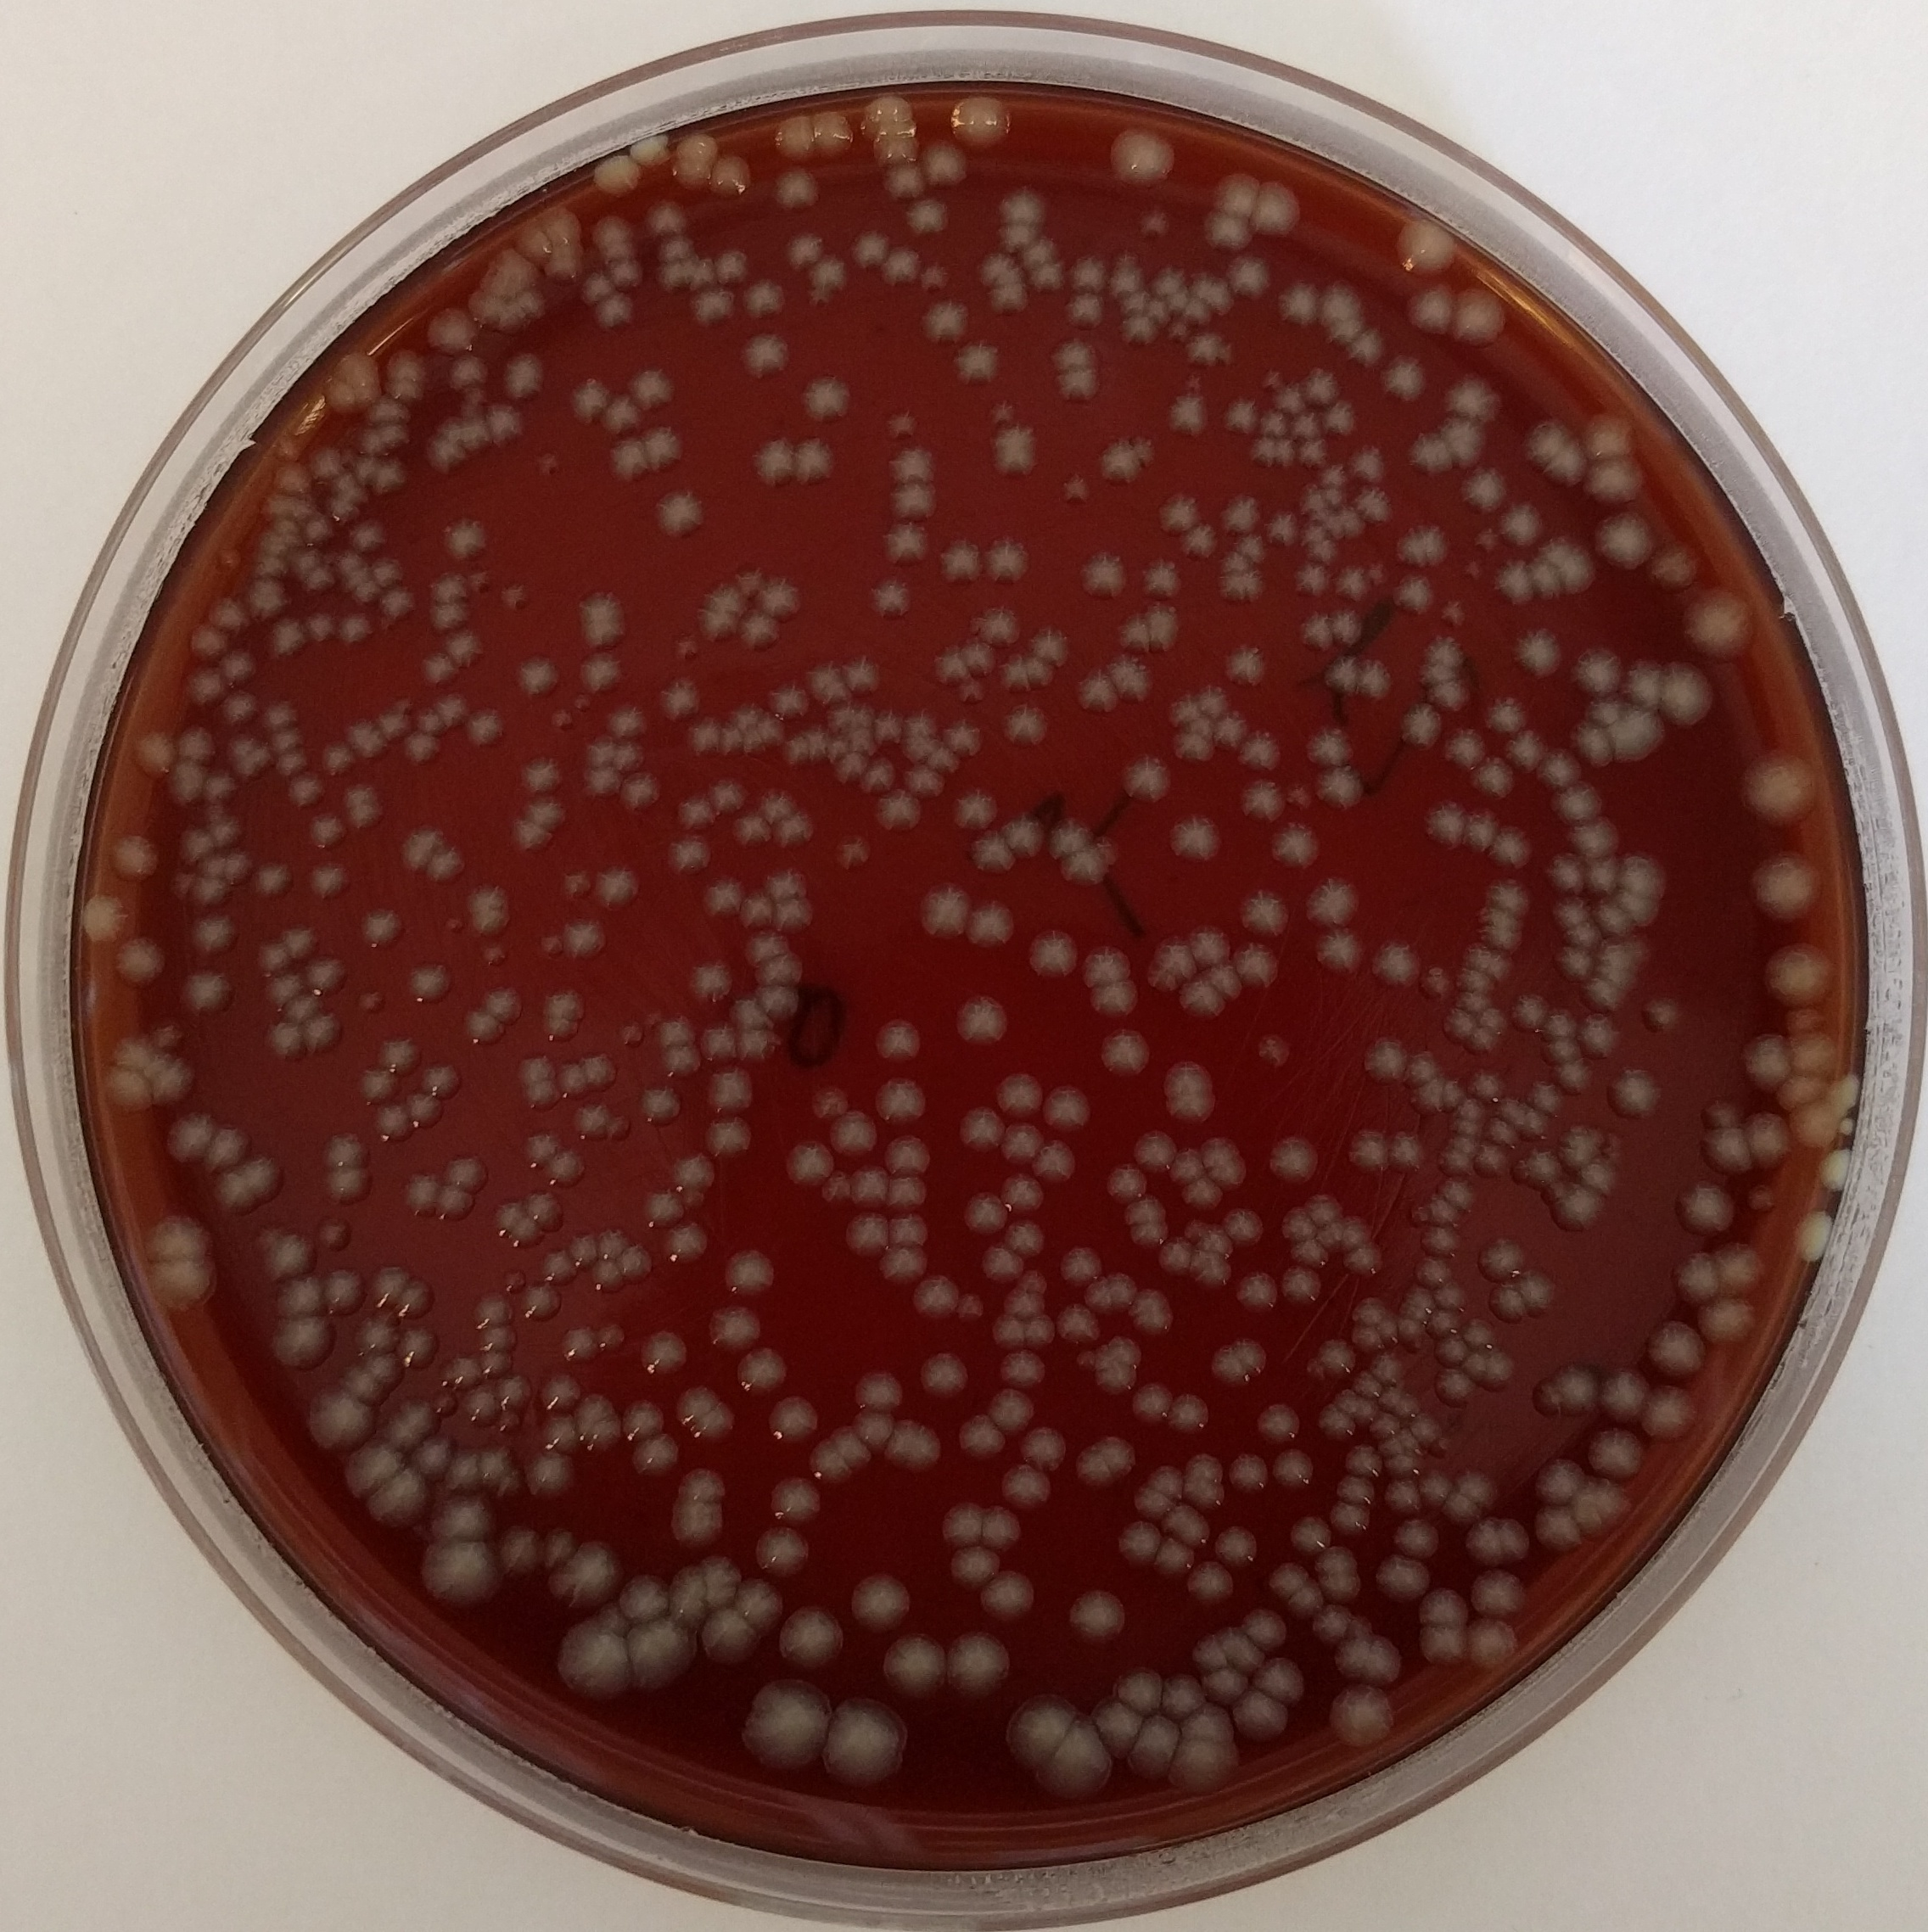sp05: (731, 1672, 837, 1770), (819, 1687, 913, 1789), (553, 1604, 643, 1702), (1734, 740, 1831, 830), (1005, 1679, 1091, 1775), (1026, 1715, 1116, 1801), (618, 1612, 708, 1699), (1744, 839, 1826, 932), (927, 745, 1003, 839), (1677, 579, 1760, 660), (422, 1529, 507, 1609), (478, 240, 553, 325), (1764, 929, 1841, 1008), (1395, 198, 1467, 283), (318, 369, 387, 456), (876, 1626, 952, 1702), (302, 1381, 378, 1457), (777, 1595, 851, 1671), (360, 1455, 434, 1531), (943, 1626, 1017, 1701), (1658, 652, 1723, 735), (141, 1257, 226, 1321), (1331, 1676, 1402, 1752), (1589, 502, 1658, 579), (1081, 1688, 1146, 1770), (1167, 1731, 1243, 1798), (1577, 443, 1656, 505), (1298, 864, 1372, 929), (1644, 1312, 1709, 1386), (547, 1538, 621, 1604), (427, 1485, 501, 1551), (952, 982, 1015, 1058), (1020, 924, 1089, 992), (1225, 1678, 1292, 1748), (846, 1563, 916, 1630), (1571, 1471, 1637, 1543), (1111, 120, 1178, 189), (1691, 1289, 1762, 1355), (302, 441, 373, 507), (270, 1310, 343, 1374), (1056, 1588, 1130, 1649), (1638, 1374, 1704, 1443), (701, 1600, 770, 1665), (343, 1436, 411, 1501), (1605, 706, 1676, 770), (141, 1213, 212, 1277), (572, 583, 636, 653), (373, 570, 440, 636), (1700, 1114, 1764, 1183), (1464, 1558, 1534, 1619), (1439, 366, 1511, 426), (1367, 1547, 1439, 1607), (1252, 171, 1308, 247), (1665, 1245, 1730, 1310), (795, 369, 862, 433), (1584, 1420, 1647, 1487), (881, 1418, 948, 1482), (930, 530, 992, 599), (946, 92, 1017, 152), (989, 411, 1043, 487), (1395, 514, 1460, 577), (1672, 1174, 1736, 1240), (1105, 1660, 1171, 1724), (722, 1240, 786, 1305), (1269, 270, 1329, 339), (1365, 927, 1425, 996), (1450, 275, 1508, 346), (1543, 530, 1600, 602), (916, 874, 973, 947), (701, 1294, 764, 1358), (1568, 641, 1630, 706), (1561, 807, 1626, 869), (869, 1003, 927, 1072), (1605, 1060, 1667, 1123), (109, 929, 171, 992), (1545, 1360, 1605, 1425), (1246, 1649, 1312, 1709), (837, 1199, 897, 1264), (71, 888, 136, 948), (1264, 809, 1322, 876), (1165, 804, 1224, 871), (175, 966, 242, 1024), (1714, 1234, 1771, 1303), (1130, 1709, 1181, 1785), (1114, 749, 1178, 809), (102, 825, 162, 888), (667, 1496, 733, 1554), (952, 1095, 1010, 1160), (1036, 1079, 1102, 1137), (1409, 275, 1465, 343), (1741, 1024, 1796, 1093), (1741, 1104, 1796, 1173), (975, 1561, 1036, 1621), (159, 1104, 219, 1166), (1312, 761, 1375, 819), (696, 1551, 754, 1614), (1142, 932, 1199, 998), (1174, 1701, 1241, 1755), (334, 772, 387, 841), (1465, 1611, 1525, 1671), (1225, 936, 1287, 994), (1354, 1028, 1412, 1090), (1529, 1501, 1587, 1563), (657, 1215, 715, 1277), (998, 696, 1056, 758), (752, 1522, 816, 1579), (782, 1132, 839, 1196), (869, 703, 932, 759), (886, 473, 952, 528), (1155, 1671, 1220, 1725), (445, 346, 498, 413), (267, 456, 318, 525), (1430, 408, 1490, 466), (1642, 532, 1700, 592), (1393, 696, 1451, 756), (1314, 917, 1372, 977), (1098, 1021, 1156, 1081), (1119, 1280, 1179, 1339), (1073, 547, 1135, 604), (980, 530, 1036, 592), (1231, 722, 1287, 784), (1179, 1556, 1241, 1612), (948, 1536, 1003, 1600), (274, 1268, 337, 1323), (764, 1471, 830, 1524), (184, 906, 242, 964), (918, 293, 975, 353), (738, 328, 798, 385), (682, 954, 742, 1010), (869, 1072, 930, 1127), (464, 876, 519, 938), (1612, 846, 1676, 899), (966, 892, 1019, 955), (1211, 162, 1262, 228), (1234, 885, 1292, 941), (1268, 1130, 1324, 1189), (764, 1392, 823, 1448), (614, 1568, 671, 1626), (636, 1323, 692, 1381), (828, 1104, 885, 1162), (1787, 1088, 1841, 1148), (491, 1517, 546, 1577), (989, 1065, 1043, 1125), (1379, 344, 1432, 406), (1460, 1512, 1513, 1574), (704, 1058, 757, 1120), (992, 1107, 1045, 1169), (556, 911, 618, 964), (1596, 1360, 1647, 1423), (535, 198, 586, 261), (1227, 242, 1277, 307), (620, 1390, 669, 1455), (662, 1563, 710, 1630), (1578, 404, 1635, 461), (1564, 715, 1621, 772), (1552, 1116, 1608, 1173), (1529, 1455, 1585, 1512), (1114, 1515, 1171, 1572), (906, 1268, 962, 1324), (747, 433, 802, 491), (200, 1120, 254, 1178), (424, 297, 482, 351), (807, 108, 860, 168), (1232, 1605, 1292, 1658), (1103, 650, 1155, 712), (1543, 775, 1605, 826), (1480, 871, 1541, 922), (1204, 198, 1254, 261), (731, 1572, 780, 1635), (441, 1443, 491, 1506), (1455, 457, 1510, 514), (1511, 622, 1568, 676), (1236, 770, 1292, 825), (1047, 1298, 1103, 1353), (314, 1261, 371, 1316), (768, 159, 821, 217), (936, 1498, 989, 1556), (766, 890, 825, 943), (996, 1460, 1056, 1512), (952, 1413, 1012, 1464), (621, 364, 683, 413), (1545, 433, 1594, 494), (320, 1164, 381, 1213), (1082, 934, 1137, 989), (738, 1342, 793, 1397), (475, 978, 530, 1033), (706, 148, 763, 201), (1485, 1277, 1538, 1333), (1412, 1618, 1469, 1671), (1211, 1521, 1264, 1577), (996, 1346, 1052, 1399), (353, 1339, 406, 1395), (125, 726, 178, 782), (803, 244, 855, 302), (1789, 1026, 1840, 1084), (1390, 1512, 1448, 1563), (863, 572, 922, 623), (1013, 1427, 1073, 1476), (673, 1462, 733, 1512), (683, 286, 747, 332), (395, 818, 441, 881), (1185, 260, 1238, 314), (918, 138, 973, 191), (1495, 494, 1548, 549), (1534, 740, 1587, 795), (1511, 1137, 1566, 1190), (983, 1385, 1038, 1438), (689, 1395, 743, 1448), (408, 1432, 463, 1485), (245, 853, 300, 906), (516, 784, 570, 837), (576, 646, 629, 701), (733, 604, 786, 659), (966, 825, 1019, 879), (480, 396, 535, 449), (154, 1056, 208, 1109), (950, 336, 1006, 387), (1043, 812, 1095, 869), (524, 1445, 576, 1501), (872, 782, 923, 839), (881, 516, 932, 572), (1621, 650, 1665, 715), (1301, 1332, 1359, 1381), (173, 717, 222, 775), (621, 129, 682, 177), (966, 602, 1026, 650), (1513, 1259, 1561, 1319), (1081, 971, 1142, 1017), (1347, 479, 1400, 532), (1162, 1386, 1215, 1439), (996, 809, 1049, 862), (888, 441, 943, 493), (1416, 795, 1467, 849), (1059, 844, 1114, 895), (1418, 1577, 1469, 1632), (443, 1146, 494, 1201), (703, 1109, 757, 1160), (161, 754, 212, 809), (175, 659, 230, 710), (662, 828, 717, 879), (1520, 413, 1570, 470), (1439, 721, 1488, 777), (1502, 721, 1552, 777), (803, 1441, 853, 1498), (627, 1430, 683, 1480), (514, 648, 563, 705), (606, 429, 653, 487), (1133, 553, 1192, 600), (1607, 878, 1665, 925), (960, 1185, 1008, 1243), (443, 507, 491, 565), (325, 346, 385, 392), (1455, 802, 1499, 864), (1162, 1086, 1229, 1127), (653, 489, 704, 542), (1132, 1123, 1183, 1176), (842, 1162, 895, 1213), (900, 189, 955, 238), (1301, 721, 1356, 770), (1148, 1535, 1202, 1584), (1028, 1128, 1077, 1183), (390, 1272, 438, 1328), (318, 1125, 374, 1173), (1165, 722, 1224, 768), (353, 583, 422, 622), (1783, 991, 1834, 1042), (431, 1178, 482, 1229), (184, 620, 235, 671), (614, 765, 666, 816), (1409, 426, 1462, 475), (1234, 1266, 1284, 1319), (1324, 1496, 1377, 1545), (260, 1233, 313, 1282), (516, 751, 569, 800), (770, 800, 819, 853), (501, 344, 544, 406), (570, 371, 613, 433), (1105, 249, 1153, 304), (872, 131, 927, 178), (1471, 747, 1518, 802), (1089, 1436, 1144, 1483), (415, 1056, 470, 1104), (666, 1148, 720, 1196), (590, 862, 644, 909), (383, 343, 438, 390), (1490, 1510, 1536, 1566), (1451, 1468, 1508, 1513), (457, 1376, 503, 1432), (1522, 549, 1566, 608), (1543, 846, 1587, 904), (1474, 911, 1533, 955), (915, 1353, 973, 1397), (1329, 1626, 1374, 1685), (701, 867, 745, 925), (1335, 1234, 1395, 1277), (1363, 1628, 1405, 1688), (591, 148, 643, 198), (1345, 1125, 1395, 1176), (394, 1324, 443, 1376), (208, 1164, 260, 1213), (697, 1017, 749, 1067), (304, 947, 353, 998), (304, 857, 355, 906), (936, 710, 987, 759), (1591, 892, 1638, 945), (1502, 985, 1550, 1038), (1774, 1061, 1827, 1109), (1476, 1231, 1529, 1279), (1077, 1264, 1125, 1317), (1213, 1618, 1261, 1671), (674, 1381, 722, 1434), (1001, 1167, 1054, 1215), (828, 825, 876, 878), (1169, 385, 1215, 440), (1024, 616, 1070, 671), (634, 1081, 689, 1127), (353, 904, 408, 950), (1344, 313, 1388, 369), (1049, 362, 1105, 406), (1095, 431, 1139, 487), (1222, 638, 1266, 694), (1075, 660, 1119, 717), (1573, 975, 1630, 1019), (1280, 1264, 1337, 1309), (809, 1072, 853, 1128), (657, 671, 701, 728), (1790, 1204, 1833, 1263), (1280, 1227, 1338, 1270), (639, 424, 689, 473), (104, 1063, 154, 1113), (404, 955, 454, 1005), (757, 947, 807, 996), (731, 807, 780, 857), (343, 514, 392, 563), (1299, 358, 1347, 410), (1390, 570, 1441, 618), (1420, 629, 1467, 680), (1481, 689, 1533, 736), (1098, 1157, 1149, 1204), (1264, 1556, 1312, 1607), (1303, 1596, 1351, 1648), (1254, 1399, 1305, 1446), (351, 1307, 403, 1355), (351, 1058, 403, 1106), (885, 1238, 932, 1289), (763, 673, 814, 721), (793, 434, 839, 487), (1183, 920, 1236, 966), (1271, 1445, 1317, 1498), (982, 1505, 1028, 1558), (849, 1369, 902, 1415), (572, 1385, 618, 1438), (883, 1164, 929, 1217), (343, 712, 388, 765), (805, 659, 858, 705), (1054, 1243, 1109, 1287), (1144, 595, 1183, 657), (1554, 1185, 1610, 1227), (1160, 1054, 1216, 1097), (1308, 1538, 1365, 1581), (1061, 283, 1111, 330), (775, 111, 825, 159), (1329, 562, 1379, 609), (1635, 985, 1684, 1033), (1575, 1151, 1624, 1199), (1381, 1125, 1430, 1173), (1220, 1199, 1268, 1249), (1331, 1468, 1381, 1515), (1287, 1512, 1335, 1561), (1204, 1340, 1252, 1390), (1199, 1657, 1248, 1704), (516, 1275, 565, 1323), (256, 1017, 304, 1067), (877, 1127, 927, 1174), (334, 604, 383, 652), (399, 719, 447, 768), (749, 781, 798, 828), (418, 431, 468, 479), (369, 385, 417, 434), (743, 268, 789, 320), (1412, 1468, 1458, 1519), (1125, 1379, 1176, 1425), (998, 1219, 1049, 1264), (761, 862, 812, 908), (427, 565, 478, 611), (1218, 385, 1262, 438), (996, 185, 1049, 230), (976, 1238, 1029, 1282), (1047, 330, 1102, 373), (238, 1157, 293, 1199), (754, 577, 809, 620), (1015, 641, 1056, 698), (1448, 955, 1504, 996), (1488, 821, 1536, 869), (1577, 853, 1624, 901), (853, 1399, 900, 1446), (397, 1166, 445, 1213), (727, 992, 775, 1040), (302, 809, 350, 857), (600, 387, 646, 436), (1114, 609, 1160, 659), (1584, 685, 1630, 735), (1813, 1143, 1859, 1192), (1575, 1008, 1621, 1058), (1149, 1233, 1195, 1282), (1434, 1169, 1483, 1215), (1367, 1340, 1416, 1386), (1222, 1452, 1271, 1498), (826, 1422, 876, 1468), (537, 1524, 583, 1574), (505, 812, 554, 858), (591, 288, 643, 332), (1158, 484, 1202, 535), (1301, 1183, 1352, 1227), (1162, 1505, 1213, 1549), (365, 1257, 410, 1309), (367, 549, 411, 600), (1287, 558, 1340, 600), (1178, 977, 1231, 1019), (1337, 1206, 1379, 1259), (1430, 1367, 1483, 1409), (1312, 1563, 1365, 1605), (1183, 1476, 1236, 1519), (516, 1127, 569, 1169), (201, 592, 254, 634), (245, 572, 288, 625), (877, 162, 938, 200), (1326, 602, 1367, 657), (1224, 486, 1262, 542), (576, 268, 621, 316), (524, 1189, 570, 1236), (517, 1075, 565, 1121), (704, 772, 750, 819), (441, 627, 489, 673), (839, 648, 885, 696), (899, 752, 946, 798), (1319, 270, 1363, 320), (1065, 249, 1114, 293), (1495, 558, 1540, 608), (1550, 1054, 1600, 1098), (1390, 1302, 1434, 1351), (574, 1044, 618, 1093), (651, 1010, 701, 1054), (885, 1211, 929, 1261), (217, 685, 261, 735), (109, 1033, 159, 1077), (846, 226, 897, 268), (591, 210, 643, 253), (1321, 650, 1363, 701), (298, 1007, 341, 1058), (1216, 565, 1269, 606), (464, 1286, 517, 1326), (185, 872, 238, 913), (1275, 1203, 1329, 1241), (1481, 1342, 1520, 1397), (987, 274, 1033, 320), (1328, 1383, 1374, 1429), (175, 823, 221, 869), (263, 611, 309, 657), (1347, 436, 1391, 484), (1312, 1215, 1359, 1259), (1188, 1245, 1236, 1289), (1395, 1280, 1442, 1324), (471, 1443, 516, 1491), (378, 1031, 426, 1075), (537, 1146, 584, 1190), (461, 1003, 508, 1047), (662, 1040, 710, 1084), (461, 701, 505, 749), (855, 752, 899, 800), (1319, 392, 1361, 441), (1176, 514, 1218, 563), (1197, 957, 1246, 1000), (1698, 1091, 1748, 1134), (1524, 1072, 1566, 1121), (1003, 1286, 1052, 1328), (392, 1083, 441, 1125), (286, 765, 328, 814), (1118, 307, 1169, 348), (1356, 653, 1397, 705), (538, 1369, 579, 1420), (784, 230, 830, 274), (1252, 1030, 1296, 1075), (281, 982, 327, 1026), (251, 936, 295, 982), (198, 765, 244, 809), (256, 692, 300, 738), (676, 789, 720, 835), (417, 648, 463, 692), (1344, 1362, 1391, 1404), (436, 1349, 484, 1392), (556, 1323, 604, 1365), (369, 1097, 417, 1139), (740, 1028, 787, 1070), (260, 966, 307, 1008), (215, 643, 258, 691), (431, 689, 473, 736), (877, 242, 918, 291), (1285, 1574, 1326, 1623), (1183, 1630, 1232, 1671), (588, 1250, 629, 1300), (1121, 1189, 1172, 1227), (540, 982, 591, 1021), (863, 90, 916, 127), (1296, 608, 1340, 652), (1179, 1169, 1224, 1213), (604, 251, 650, 293), (1497, 1090, 1540, 1136), (1125, 1211, 1171, 1254), (1179, 1452, 1225, 1494), (426, 842, 468, 888), (579, 759, 621, 805), (606, 699, 648, 745), (971, 242, 1012, 290), (1446, 1086, 1494, 1127), (1314, 1399, 1361, 1439), (1073, 1446, 1114, 1494), (583, 1409, 623, 1457), (374, 696, 415, 743), (757, 977, 807, 1015), (742, 881, 780, 931), (816, 1158, 853, 1210), (1185, 328, 1227, 373), (671, 155, 715, 198), (1264, 503, 1307, 547), (570, 1095, 613, 1139), (263, 724, 307, 766), (318, 736, 360, 781), (1439, 1001, 1480, 1047), (1345, 1289, 1391, 1330), (613, 1238, 653, 1284), (1105, 1268, 1142, 1317), (994, 643, 1029, 694), (535, 1407, 577, 1450), (704, 581, 747, 623), (300, 562, 343, 604), (1324, 304, 1365, 348), (644, 198, 689, 238), (1467, 1063, 1508, 1107), (279, 922, 320, 966), (233, 738, 274, 782), (655, 228, 701, 267), (1552, 888, 1598, 927), (1471, 1134, 1510, 1180), (1423, 1302, 1469, 1340), (1093, 1353, 1139, 1392), (373, 454, 411, 500), (1017, 235, 1065, 272), (994, 217, 1042, 254), (1527, 1372, 1564, 1420), (1557, 915, 1607, 950), (685, 710, 720, 759), (424, 600, 478, 632), (925, 643, 968, 683), (1462, 1015, 1502, 1058), (1213, 708, 1255, 749), (1434, 1324, 1474, 1367), (1231, 1332, 1271, 1374), (591, 1316, 632, 1358), (1393, 1044, 1437, 1083), (1432, 1139, 1476, 1178), (639, 1189, 683, 1227), (879, 404, 925, 441), (674, 131, 720, 168), (1414, 1243, 1451, 1289), (1338, 1436, 1384, 1473), (493, 1197, 530, 1243), (219, 842, 256, 888), (1218, 1151, 1255, 1197), (692, 608, 740, 643), (1125, 426, 1158, 475), (1266, 374, 1307, 415), (1437, 593, 1478, 634), (1197, 1130, 1238, 1171), (1171, 1144, 1211, 1185), (1285, 399, 1324, 441), (1416, 652, 1458, 691), (1194, 1219, 1236, 1257), (1128, 1485, 1171, 1524), (496, 1372, 538, 1411), (581, 733, 623, 772), (1298, 426, 1335, 470), (1428, 1273, 1472, 1310), (1439, 1485, 1483, 1522), (1386, 1478, 1430, 1515), (1596, 941, 1647, 973), (478, 1317, 524, 1353), (147, 1021, 192, 1056), (960, 630, 994, 678), (1095, 1330, 1142, 1363), (1538, 1028, 1578, 1067), (1421, 1219, 1460, 1259), (1458, 1309, 1499, 1347), (1345, 1312, 1384, 1353), (540, 1245, 579, 1286), (295, 507, 334, 547), (1264, 427, 1301, 470), (1026, 260, 1068, 297), (955, 1282, 992, 1324), (224, 726, 261, 768), (1052, 468, 1096, 503), (1552, 934, 1587, 978), (1194, 676, 1227, 722), (1407, 1077, 1446, 1116), (990, 1310, 1029, 1349), (514, 1047, 553, 1086), (1428, 673, 1469, 710), (1232, 533, 1273, 570), (313, 1213, 353, 1250), (717, 245, 752, 288), (1538, 1005, 1580, 1040), (1483, 1106, 1518, 1148), (304, 604, 337, 648), (459, 420, 493, 464), (567, 1227, 599, 1273), (1162, 683, 1201, 721), (1342, 1609, 1381, 1646), (1020, 1307, 1058, 1346), (593, 1222, 630, 1261), (274, 743, 311, 782), (1460, 934, 1495, 975), (1435, 1067, 1471, 1107), (475, 1342, 516, 1377), (602, 1109, 637, 1150), (556, 865, 591, 906), (1416, 959, 1450, 1001), (1439, 1106, 1481, 1139), (780, 728, 810, 774), (427, 1385, 464, 1422), (689, 253, 726, 290), (1139, 203, 1174, 242), (1089, 830, 1125, 869), (1457, 1344, 1492, 1383), (553, 1061, 591, 1097), (613, 1014, 648, 1053), (268, 434, 307, 470), (1148, 263, 1188, 297), (196, 848, 230, 888), (810, 719, 837, 770), (1220, 549, 1257, 585), (1741, 1178, 1778, 1213), (1151, 1464, 1186, 1501), (351, 985, 388, 1021), (475, 940, 512, 975), (205, 812, 242, 848), (611, 738, 648, 774), (1254, 401, 1292, 434), (1478, 998, 1511, 1037), (251, 1219, 284, 1257), (1248, 429, 1277, 475), (717, 719, 745, 765), (468, 288, 500, 328), (1596, 966, 1644, 992), (1118, 283, 1153, 318), (1409, 1409, 1444, 1445), (538, 1014, 583, 1042), (832, 745, 860, 789), (918, 254, 952, 291), (1282, 775, 1319, 809), (1012, 1264, 1051, 1296), (496, 304, 528, 343), (759, 706, 789, 747), (410, 703, 443, 738), (498, 579, 531, 615), (955, 669, 985, 706), (733, 698, 763, 735), (1142, 291, 1171, 330), (1472, 521, 1506, 553), (1317, 463, 1351, 494), (1457, 982, 1488, 1015), (673, 630, 704, 664), (380, 424, 413, 456), (745, 936, 780, 966), (1540, 1171, 1568, 1208), (734, 563, 763, 600), (166, 867, 198, 899), (1310, 532, 1340, 565), (327, 498, 360, 528), (823, 705, 856, 735), (1319, 477, 1347, 512), (992, 263, 1035, 286), (1167, 314, 1199, 344), (1458, 555, 1488, 586), (1368, 1409, 1400, 1439), (678, 1185, 712, 1213), (468, 567, 498, 597), (849, 729, 879, 759), (1630, 931, 1660, 961), (1363, 560, 1395, 588), (1483, 952, 1511, 984), (514, 1213, 546, 1241), (549, 701, 572, 740), (1379, 1383, 1405, 1416), (494, 1406, 528, 1432), (535, 929, 569, 955), (252, 535, 286, 562), (906, 708, 939, 735), (1215, 334, 1239, 369), (1395, 1392, 1425, 1420), (498, 1263, 528, 1291), (569, 692, 599, 721), (1442, 1128, 1476, 1153), (1179, 367, 1208, 396), (987, 394, 1015, 422), (371, 608, 399, 636), (1382, 1450, 1414, 1475), (343, 567, 367, 599), (546, 260, 583, 281), (1377, 1432, 1409, 1455), (537, 450, 563, 477), (438, 419, 464, 445), (742, 721, 764, 751), (357, 456, 376, 491), (288, 551, 320, 572), (1181, 1215, 1208, 1240), (261, 498, 286, 525), (662, 261, 685, 290), (215, 551, 240, 576), (1072, 1344, 1096, 1367), (256, 560, 288, 577), (337, 549, 360, 572), (853, 710, 874, 731), (459, 399, 478, 422), (282, 532, 302, 553), (267, 523, 297, 533), (325, 549, 339, 569)
